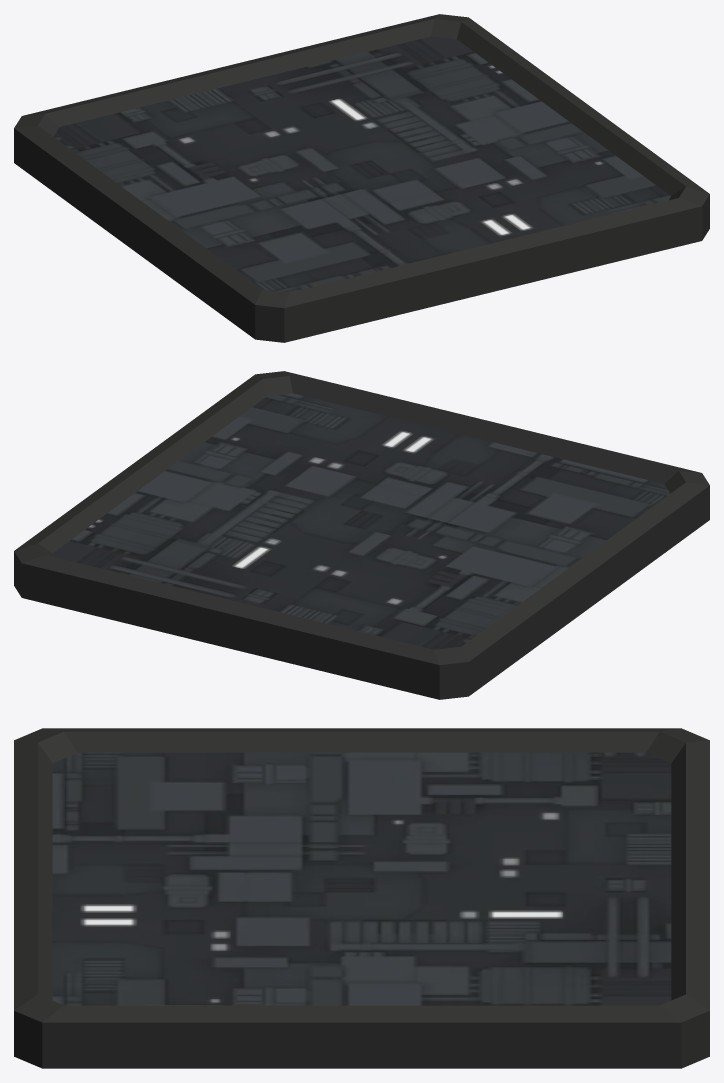
Rendered from space_SM_Prop_Greeble_Panel_05.gltf.
3 renders of one model, top to bottom at view 1: azimuth 30°, elevation 25°; view 2: azimuth 150°, elevation 25°; view 3: azimuth 270°, elevation 25°, orthographic. The views are drawn at different scales.
Visible parts, largest first — view 1: SM_Prop_Greeble_Panel_05; view 2: SM_Prop_Greeble_Panel_05; view 3: SM_Prop_Greeble_Panel_05.
Part boxes in pixels (x1,y1,x2,y2): SM_Prop_Greeble_Panel_05: [14, 14, 709, 342]; SM_Prop_Greeble_Panel_05: [14, 371, 709, 699]; SM_Prop_Greeble_Panel_05: [14, 728, 709, 1068].
Bounding box in the file's own units: 1.05 × 0.1 × 1.05.
1 material, 1 textured.
